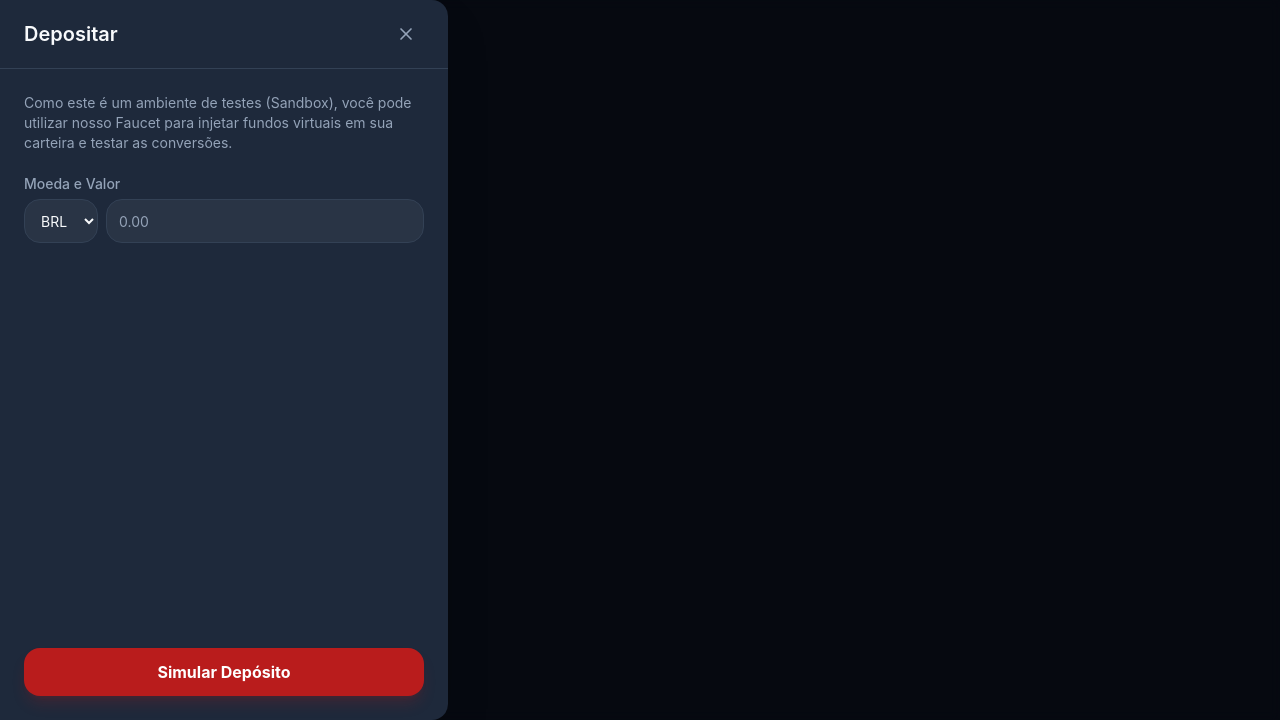
Scenario: DepositDrawer › should submit successfully and display confirmation screen
Type "500" into the field with placeholder "0.00".
click(265, 221); type("500")  # box [106,199,424,243]
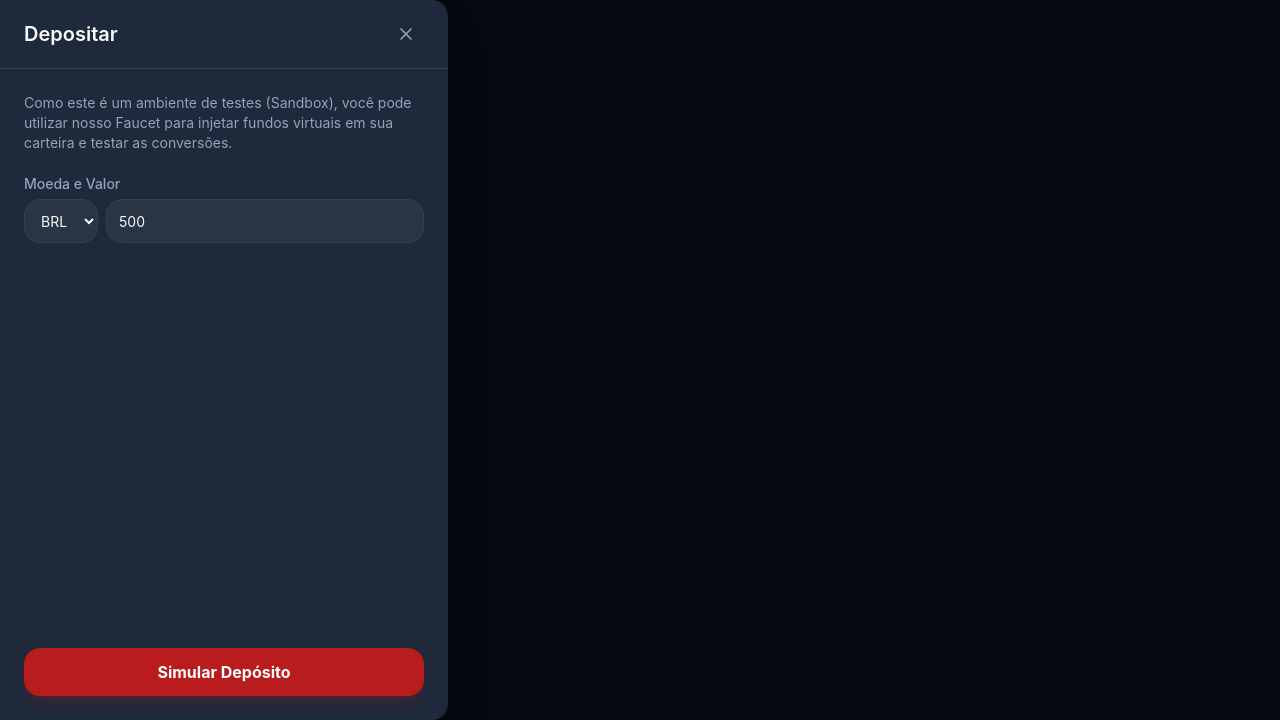
Select "BTC" in the dropdown at (61,221), box [24,199,98,243]
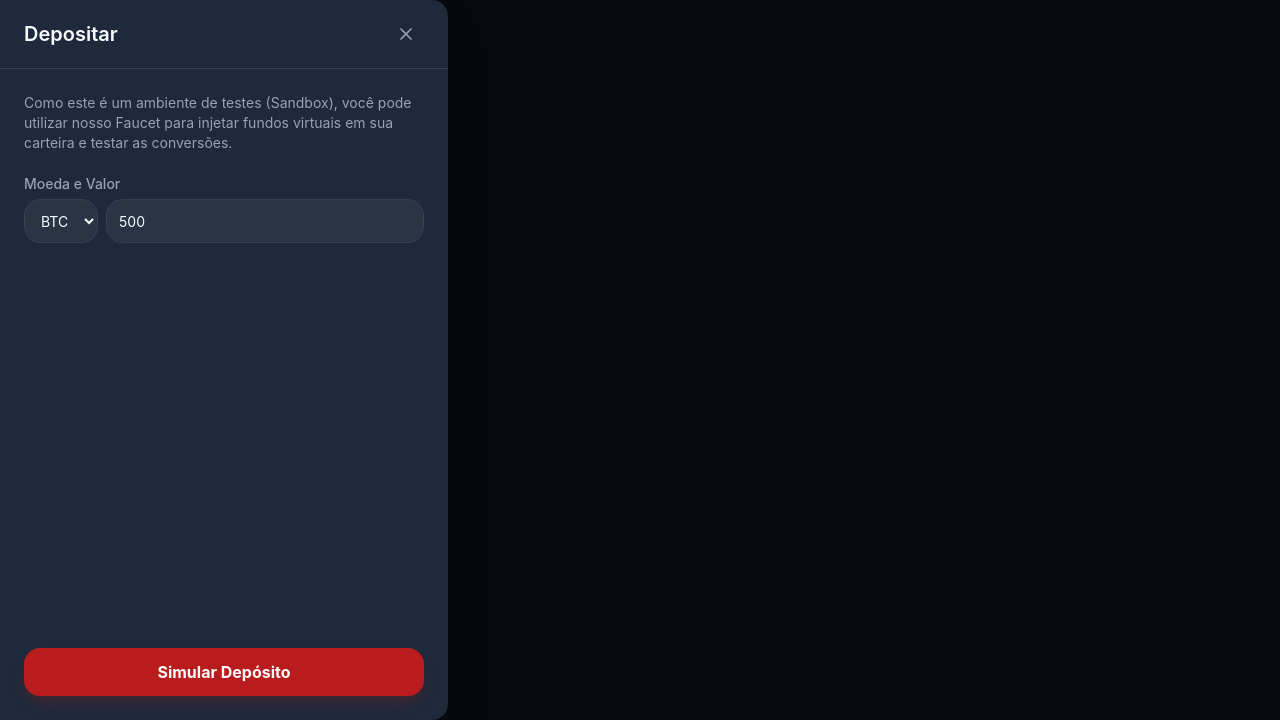
Click the button "Simular Depósito".
click(224, 672)  # box [24,648,424,696]
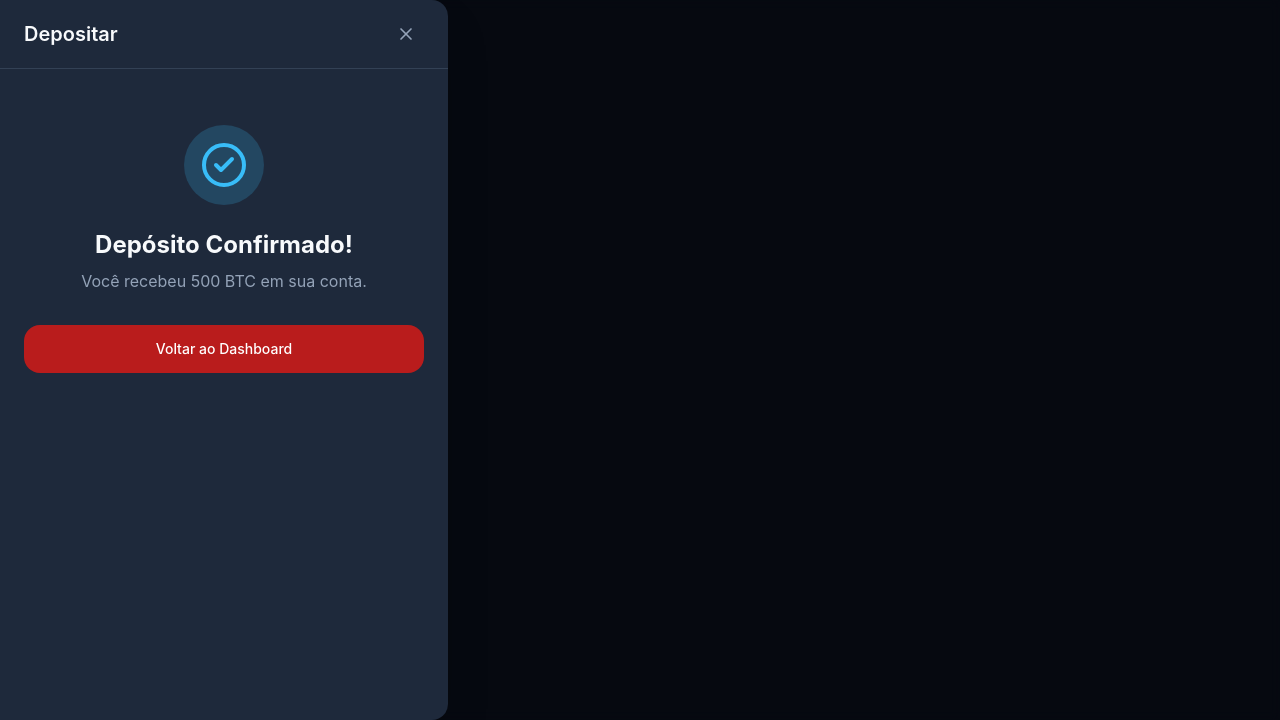
Expected: the heading "Depósito Confirmado!" is shown, [95,230,353,259]
Expected: the text "Você recebeu 500 BTC em sua conta." is shown, [81,271,367,291]
